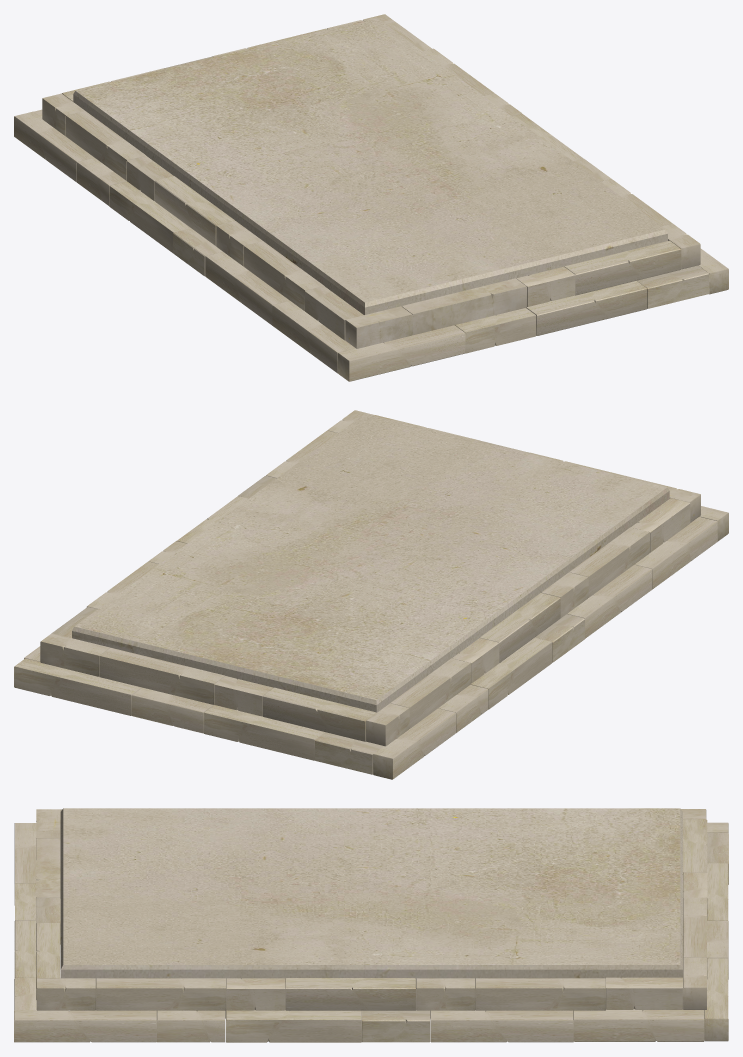
Rendered from greek-temple-simple-low-pack1.fbx.
3 renders of one model, top to bottom at view 1: azimuth 30°, elevation 25°; view 2: azimuth 150°, elevation 25°; view 3: azimuth 270°, elevation 25°, orthographic. The views are drawn at different scales.
Parts seen in each view (by area): view 1: Plane, block-small.005, block-small.001, block-small.007, block-small.003, block-small.032, block-small.031, block-small.024, block-small.028, block-small.022, block-small.030, block-small.026 (+15 smaller); view 2: Plane, block-small.035, block-small.039, block-small.041, block-small.037, block-small.026, block-small.032, block-small.031, block-small.022, block-small.028, block-small.030, block-small.024 (+14 smaller); view 3: Plane, block-small.019, block-small.013, block-small.015, block-small.017, block-small.009, block-small.011, block-small.018, block-small.020, block-small.014, block-small.012, block-small.016 (+18 smaller).
Part boxes in pixels (x1,y1,x2,y2): Plane: (73, 17, 667, 314); block-small.005: (337, 325, 465, 381); block-small.001: (401, 278, 526, 335); block-small.007: (526, 280, 647, 335); block-small.003: (564, 240, 681, 295); block-small.032: (205, 252, 289, 325); block-small.031: (272, 301, 355, 373); block-small.024: (154, 176, 234, 245); block-small.028: (109, 181, 190, 252); block-small.022: (66, 111, 146, 180); block-small.030: (244, 241, 323, 310); block-small.026: (14, 111, 94, 182); Plane: (72, 413, 669, 712); block-small.035: (99, 647, 224, 704); block-small.039: (14, 658, 141, 715); block-small.041: (203, 705, 324, 760); block-small.037: (262, 687, 376, 741); block-small.026: (373, 708, 455, 779); block-small.032: (567, 564, 652, 638); block-small.031: (635, 516, 717, 589); block-small.022: (390, 658, 471, 728); block-small.028: (470, 637, 552, 709); block-small.030: (569, 527, 649, 597); block-small.024: (480, 593, 560, 662); Plane: (60, 808, 682, 1018); block-small.019: (430, 1010, 573, 1042); block-small.013: (14, 1010, 156, 1042); block-small.015: (226, 1010, 361, 1042); block-small.017: (475, 978, 605, 1010); block-small.009: (96, 978, 226, 1010); block-small.011: (285, 978, 415, 1010); block-small.018: (573, 1009, 704, 1041); block-small.020: (606, 977, 682, 1009); block-small.014: (362, 1010, 430, 1042); block-small.012: (157, 1010, 225, 1042); block-small.016: (416, 978, 475, 1010).
Size of the model in its own units: 8156 by 1095 by 12456.
